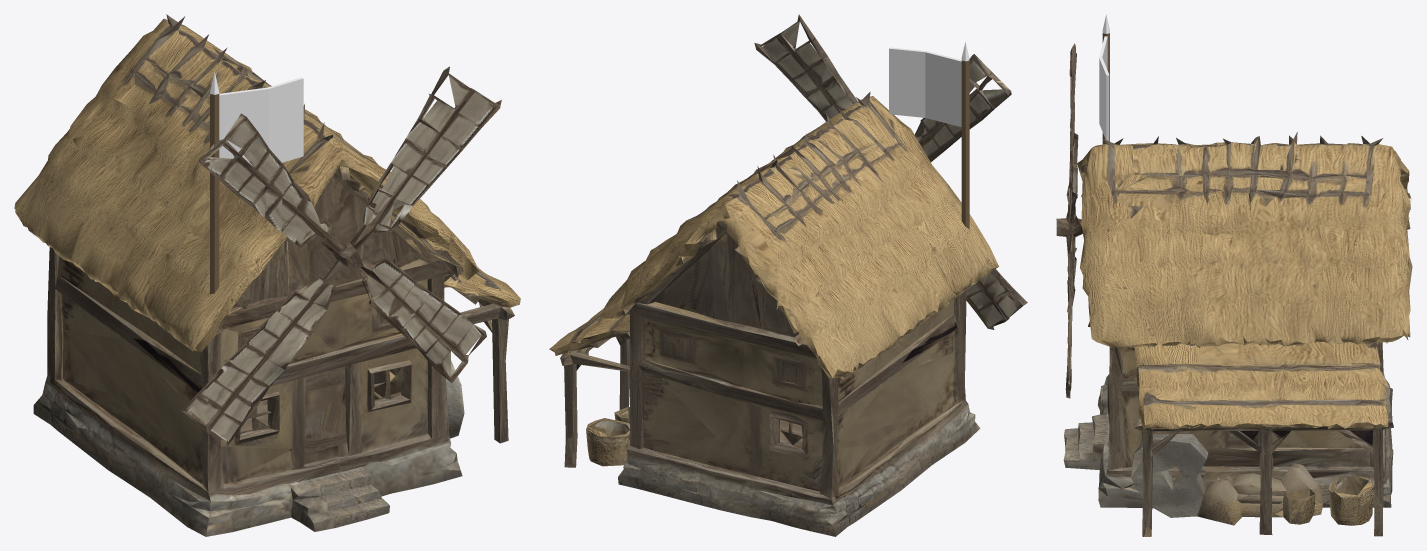
3 renders of one model, left to right at view 1: azimuth 30°, elevation 25°; view 2: azimuth 150°, elevation 25°; view 3: azimuth 270°, elevation 25°, orthographic. The views are drawn at different scales.
Parts seen in each view (by area): view 1: mill, Team_banner; view 2: mill, Team_banner; view 3: mill, Team_banner.
Part boxes in pixels (x1=…): mill: x1=14, y1=14, x2=520, y2=536; Team_banner: x1=210, y1=72, x2=303, y2=293; mill: x1=549, y1=14, x2=1027, y2=536; Team_banner: x1=889, y1=42, x2=969, y2=228; mill: x1=1056, y1=43, x2=1412, y2=536; Team_banner: x1=1099, y1=14, x2=1109, y2=144.
Size of the model in its own units: 1.76 by 2.02 by 1.66.
Materials: 3 (1 with a texture image).
